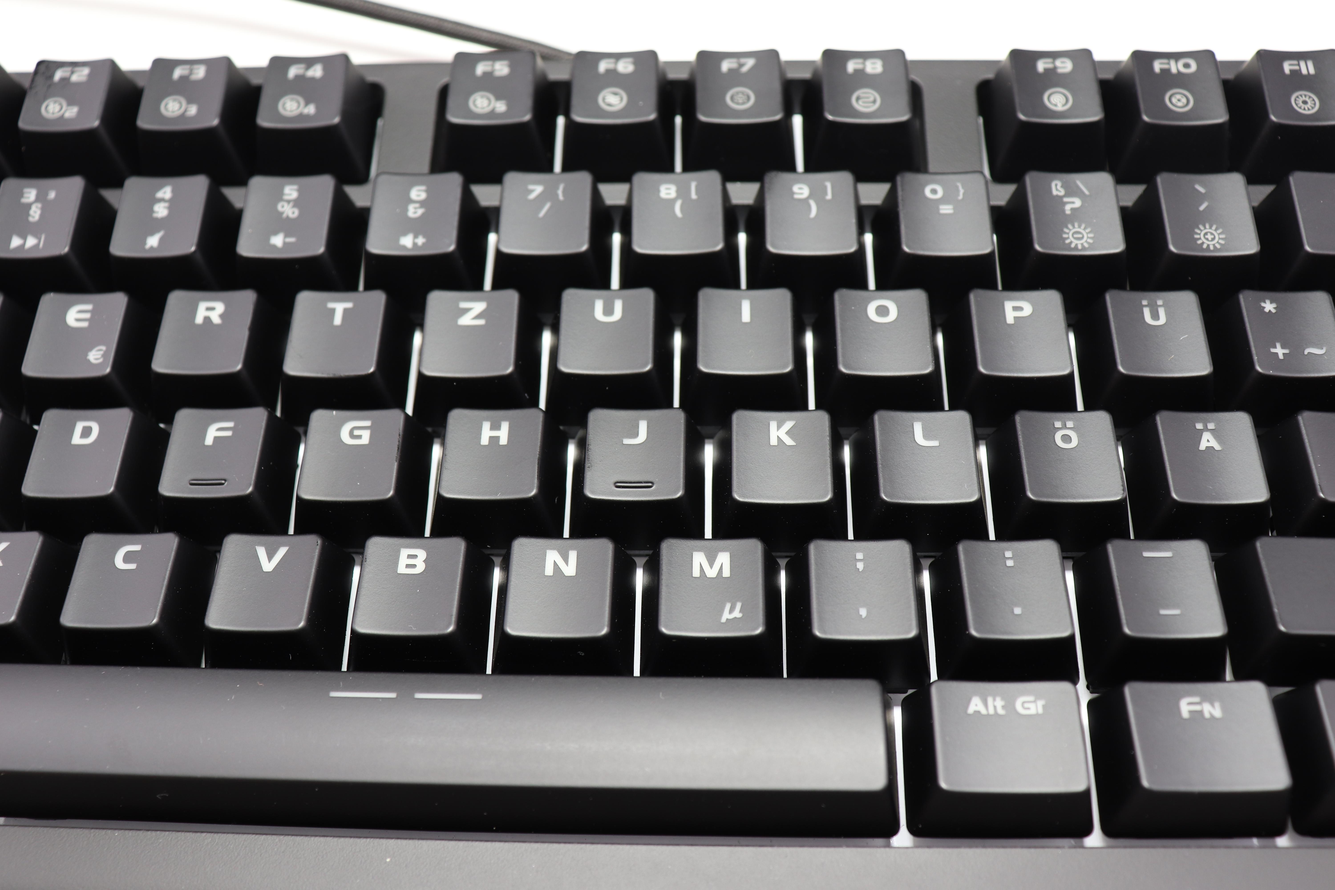0: (896, 166, 996, 256)
3: (4, 171, 84, 261)
4: (105, 171, 209, 261)
5: (233, 170, 336, 261)
6: (362, 167, 463, 257)
7: (496, 168, 593, 257)
8: (627, 166, 724, 255)
9: (761, 166, 859, 255)
accent: (1154, 167, 1261, 257)
ae: (1152, 406, 1270, 505)
altgr-right: (926, 676, 1093, 797)
b: (345, 531, 468, 636)
c: (52, 526, 180, 630)
comma: (803, 535, 918, 640)
d: (18, 401, 133, 499)
e: (19, 287, 128, 378)
f: (154, 402, 268, 501)
g: (295, 403, 403, 503)
h: (434, 404, 544, 501)
i: (694, 283, 795, 374)
j: (579, 404, 686, 504)
k: (726, 404, 834, 505)
l: (870, 405, 981, 505)
m: (652, 533, 769, 638)
minus: (1104, 535, 1229, 639)
n: (499, 531, 615, 639)
o: (830, 282, 935, 376)
oe: (1010, 405, 1126, 502)
p: (965, 283, 1074, 376)
plus: (1234, 284, 1333, 378)
point: (953, 535, 1074, 640)
q: (817, 45, 914, 125), (565, 47, 662, 126), (691, 47, 786, 126)
r: (148, 285, 256, 375), (472, 183, 501, 207)
space: (1, 671, 896, 792)
ss: (1020, 168, 1120, 258)
t: (280, 286, 384, 377)
u: (552, 282, 656, 375)
ue: (1102, 284, 1212, 377)
v: (199, 528, 323, 632)
z: (416, 285, 519, 378)
